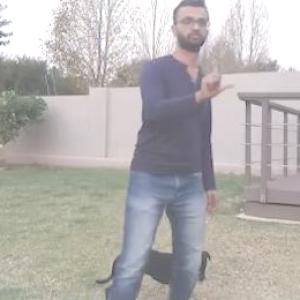land_hand: (198, 50, 236, 99)
